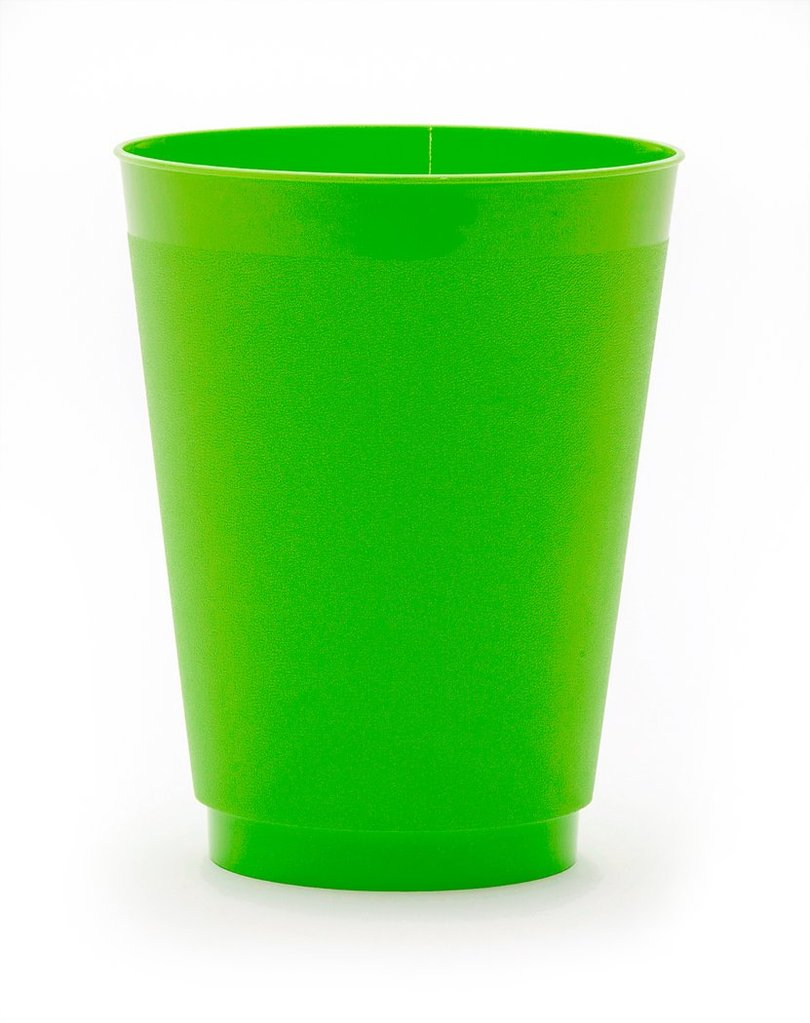plastic_glass: (101, 96, 710, 921)
